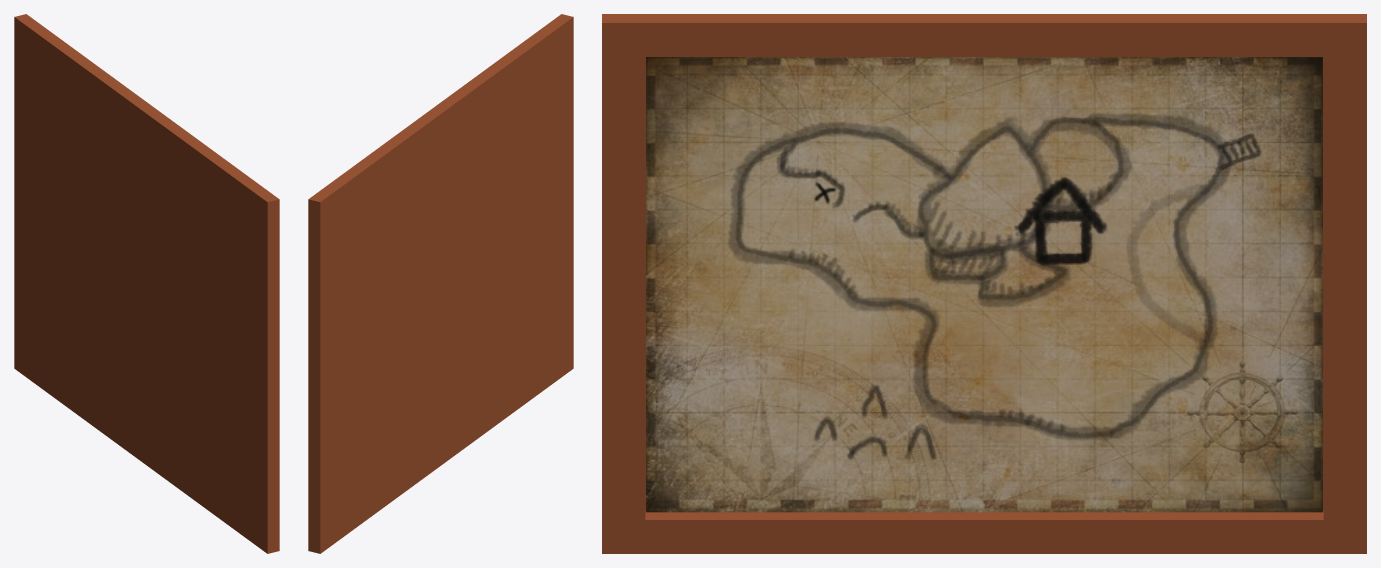
Rendered from map_frame.glb.
3 renders of one model, left to right at view 1: azimuth 30°, elevation 25°; view 2: azimuth 150°, elevation 25°; view 3: azimuth 270°, elevation 25°, orthographic. The views are drawn at different scales.
Parts seen in each view (by area): view 1: map_merged; view 2: map_merged; view 3: map_merged.
Part boxes in pixels (x1,y1,x2,y2): map_merged: (14, 14, 279, 553); map_merged: (308, 14, 573, 553); map_merged: (602, 14, 1366, 553).
Size of the model in its own units: 0.1 by 2.79 by 3.64.
Materials: 2 (1 with a texture image).
